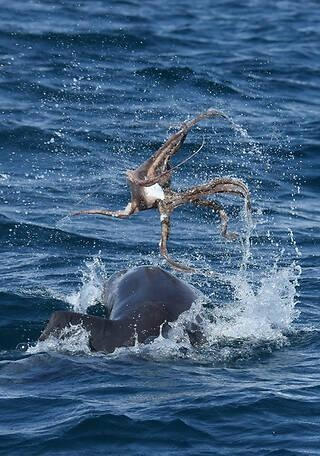fish: (25, 262, 242, 355)
